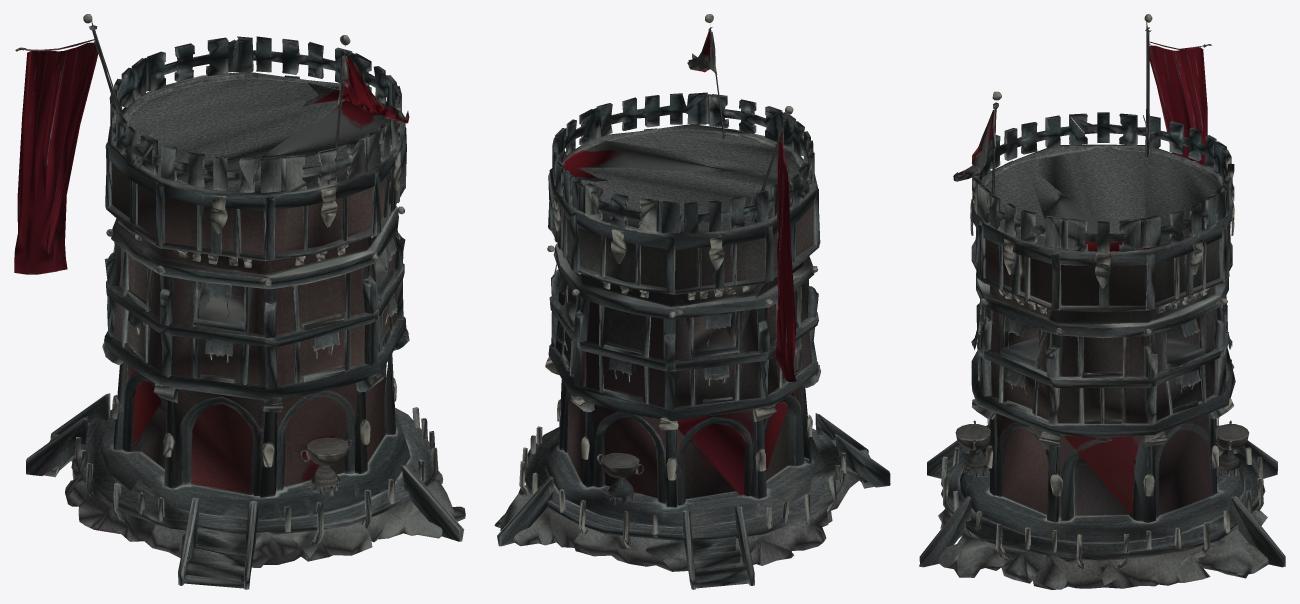
File: ThapCanh_DoanThanh.fbx
3 views of the same model, side by side, from view 1: azimuth 30°, elevation 25°; view 2: azimuth 150°, elevation 25°; view 3: azimuth 270°, elevation 25° (orthographic). The views are drawn at different scales.
Parts seen in each view (by area): view 1: Mesh_0; view 2: Mesh_0; view 3: Mesh_0.
Part boxes in pixels (x1=…): Mesh_0: x1=14, y1=14, x2=465, y2=589; Mesh_0: x1=494, y1=14, x2=890, y2=589; Mesh_0: x1=919, y1=14, x2=1285, y2=589.
Size of the model in its own units: 68.8 by 95.07 by 71.09.
1 material, 1 textured.
